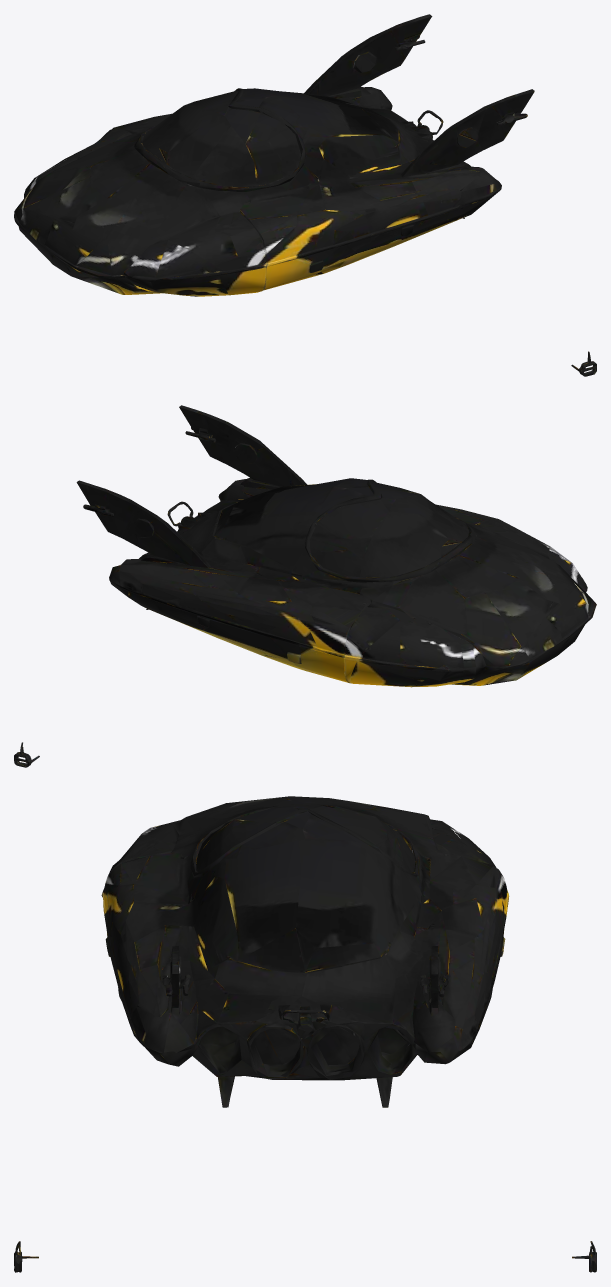
File: airtaxi.glb
3 renders of one model, top to bottom at view 1: azimuth 30°, elevation 25°; view 2: azimuth 150°, elevation 25°; view 3: azimuth 270°, elevation 25°, orthographic. The views are drawn at different scales.
Size of the model in its own units: 1.9 by 1.02 by 1.74.
1 material, 1 textured.
